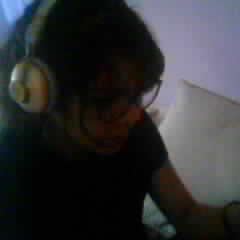without_mask: (73, 66, 145, 156)
